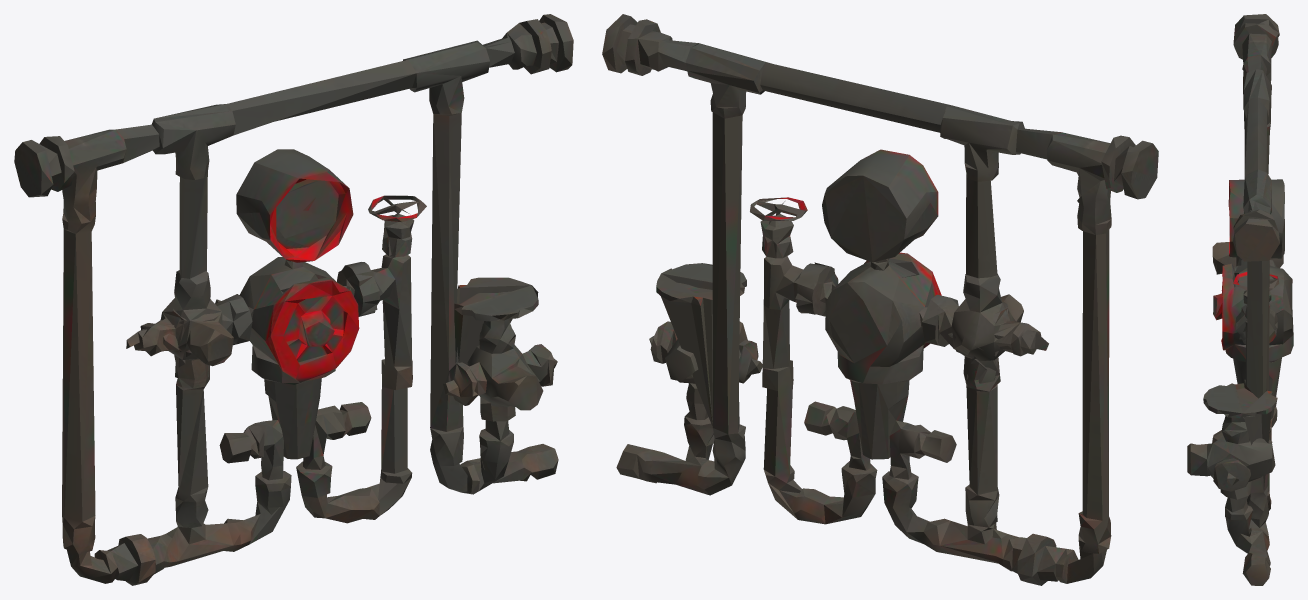
File: tuberias.glb
The picture shows the model from 3 angles, left to right: view 1: azimuth 30°, elevation 25°; view 2: azimuth 150°, elevation 25°; view 3: azimuth 270°, elevation 25°; orthographic projection. The views are drawn at different scales.
Size of the model in its own units: 1.9 by 1.59 by 0.4064.
Materials: 1 (1 with a texture image).
